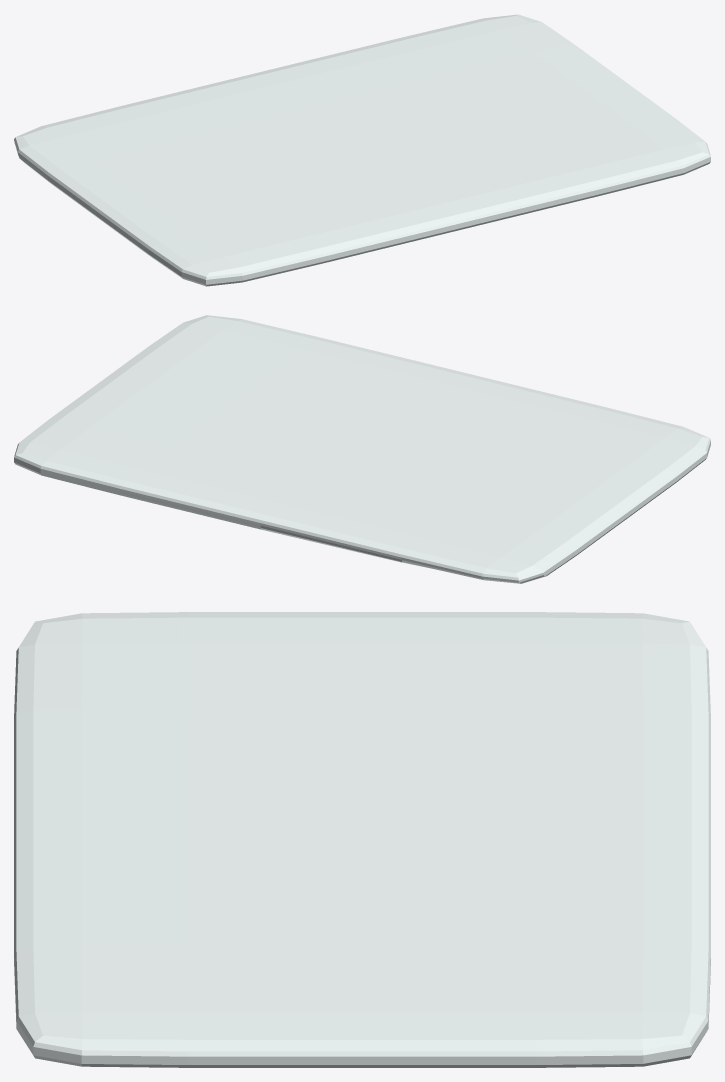
The model's file is ChoppingBoard.fbx.
3 renders of one model, top to bottom at view 1: azimuth 30°, elevation 25°; view 2: azimuth 150°, elevation 25°; view 3: azimuth 270°, elevation 25°, orthographic. The views are drawn at different scales.
Parts seen in each view (by area): view 1: ChoppingBoard; view 2: ChoppingBoard; view 3: ChoppingBoard.
Boxes of the visible parts, box(x1,y1,x2,y2) form: ChoppingBoard: box(14, 14, 710, 286); ChoppingBoard: box(14, 315, 710, 583); ChoppingBoard: box(14, 612, 710, 1067).
Bounding box in the file's own units: 150 × 4 × 100.
